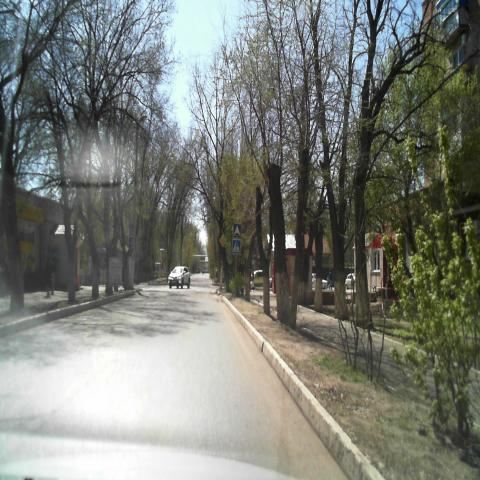2_1: (219, 233, 227, 248)
5_19_1: (232, 238, 241, 255)
5_20: (232, 222, 242, 238)
